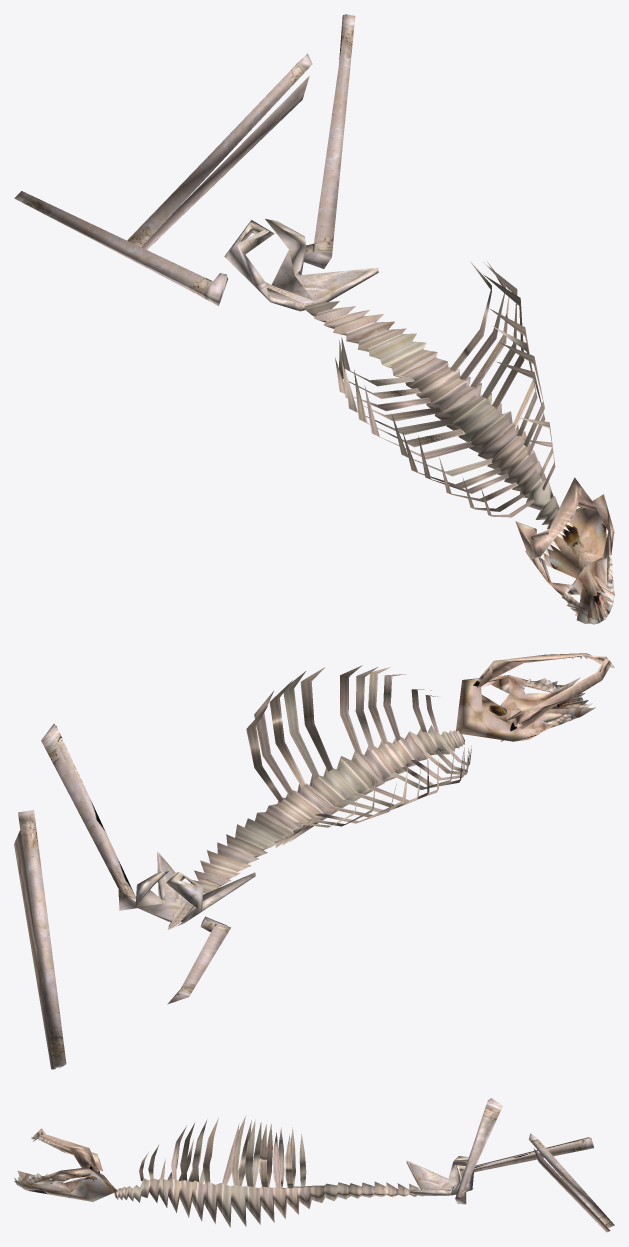
File: poi_all_ancient_skeleton_s01_dynamic_l2.fbx
3 renders of one model, top to bottom at view 1: azimuth 30°, elevation 25°; view 2: azimuth 150°, elevation 25°; view 3: azimuth 270°, elevation 25°, orthographic. The views are drawn at different scales.
Parts seen in each view (by area): view 1: mesh_node; view 2: mesh_node; view 3: mesh_node.
Part boxes in pixels (left/top/right/bottom): mesh_node: left=14, top=14, right=614, bottom=624; mesh_node: left=14, top=653, right=614, bottom=1069; mesh_node: left=14, top=1098, right=614, bottom=1232.
Size of the model in its own units: 11.03 by 12.48 by 42.
Materials: 1 (1 with a texture image).
